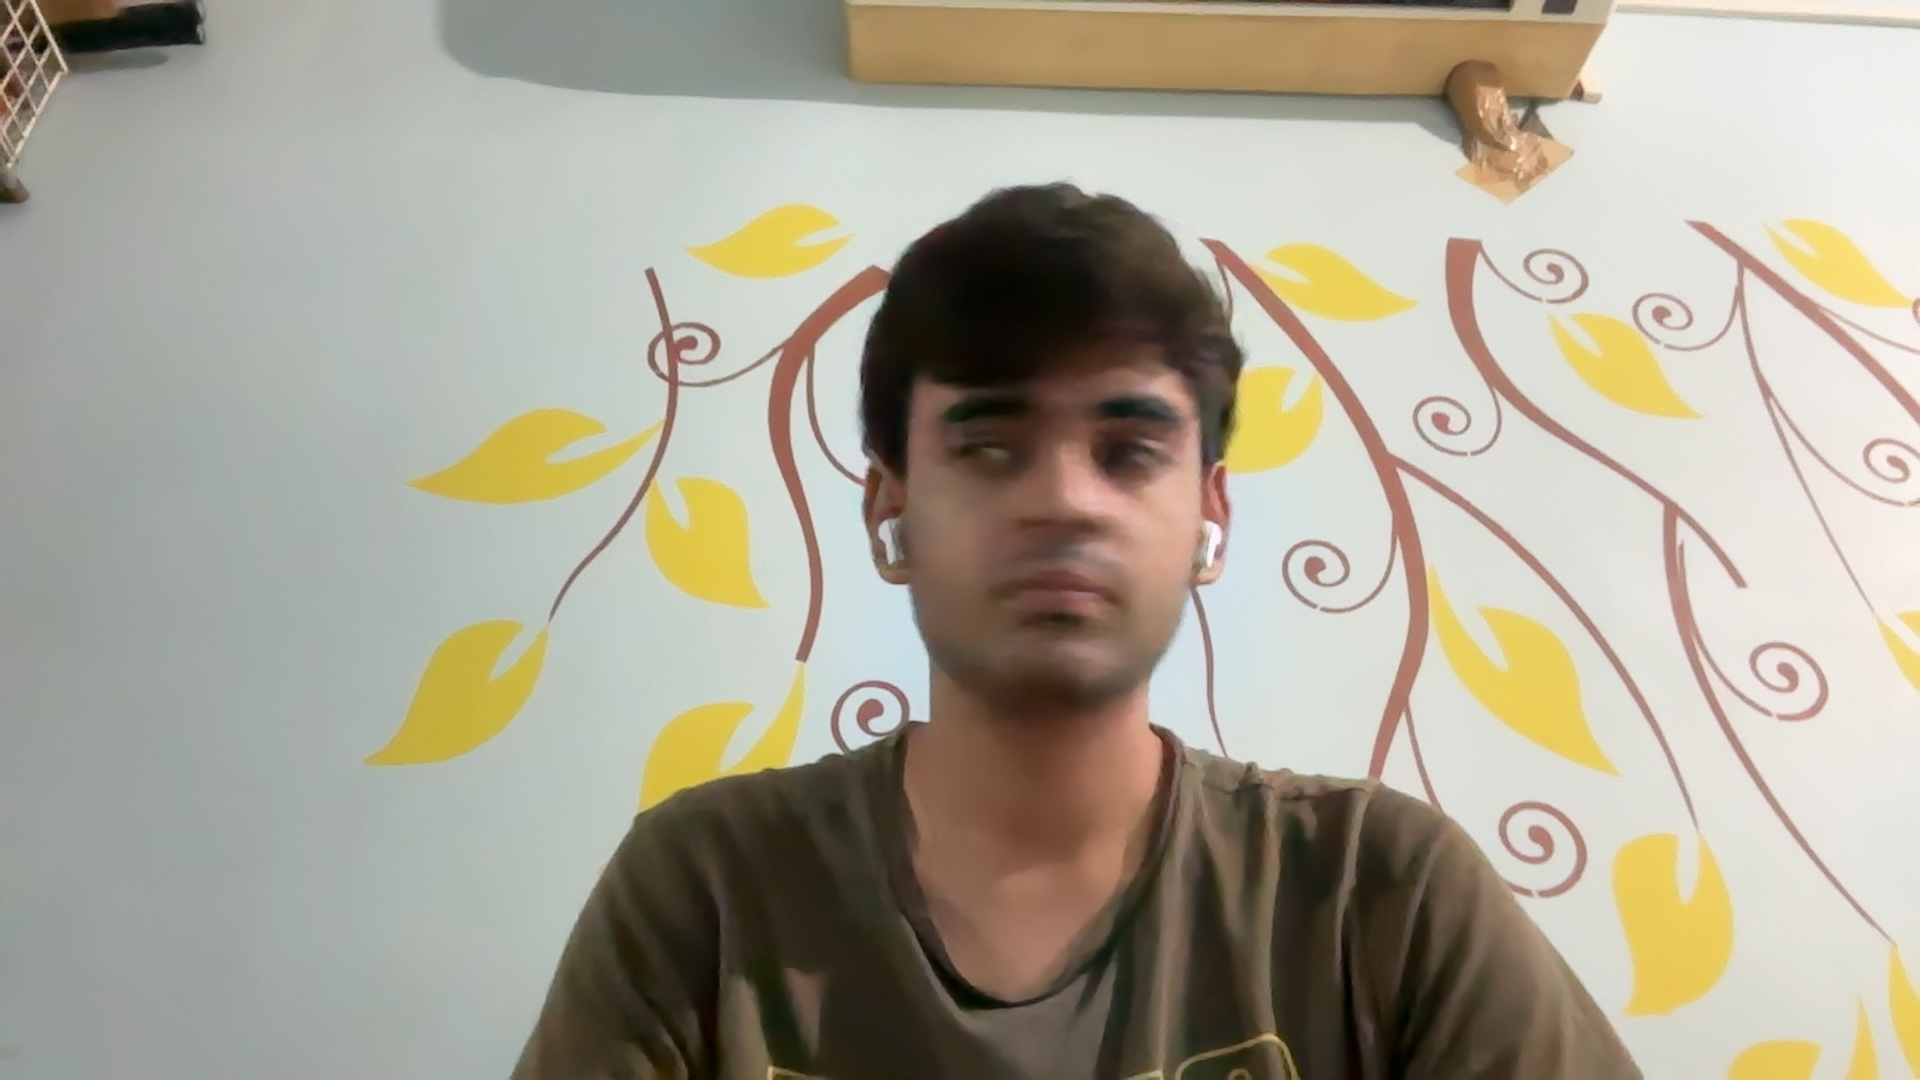No Mask: (912, 500, 1198, 717)
